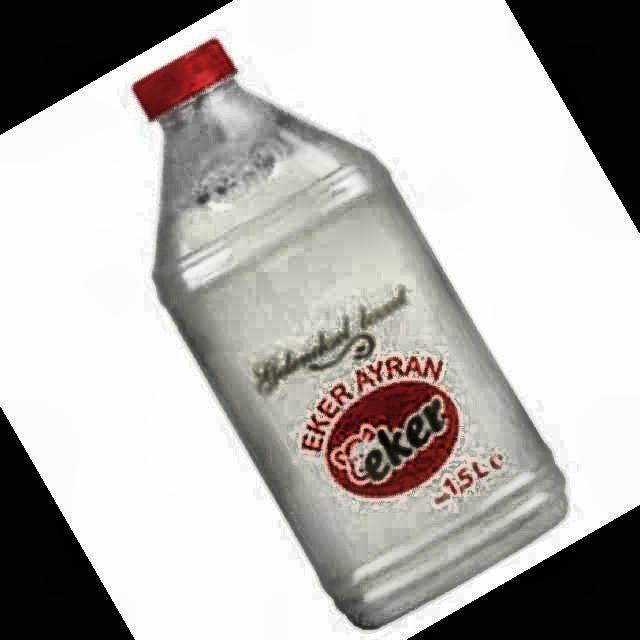plastic: (135, 40, 566, 627)
